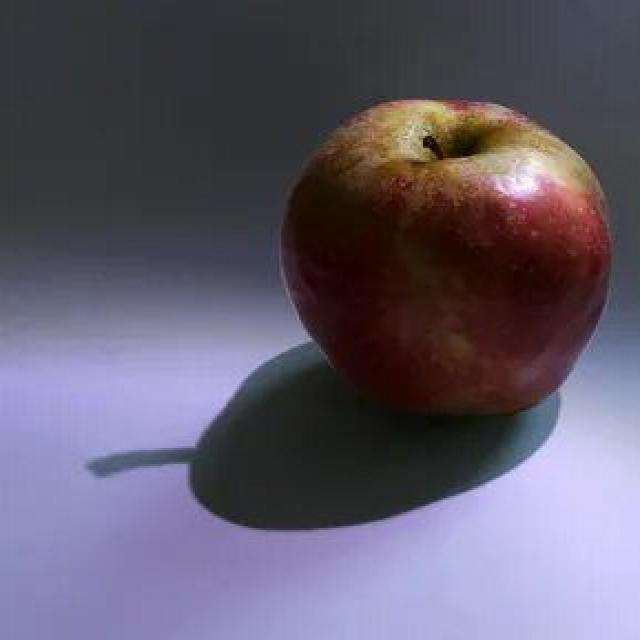Fresh Apple: (262, 96, 616, 424)
